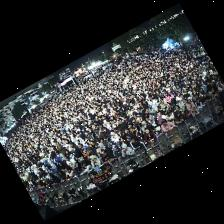person: (129, 136, 149, 157), (65, 157, 80, 174), (69, 147, 83, 163), (144, 129, 156, 146), (100, 150, 114, 164), (46, 166, 61, 179), (84, 146, 98, 159), (161, 119, 174, 132), (80, 159, 91, 174), (121, 144, 133, 157), (98, 143, 112, 154), (148, 115, 158, 130), (94, 130, 105, 143), (90, 155, 100, 168), (173, 112, 183, 125), (134, 125, 143, 139), (65, 168, 74, 182), (78, 144, 87, 158), (50, 174, 61, 185), (69, 142, 80, 153), (113, 145, 121, 160), (176, 97, 184, 112), (110, 132, 119, 145), (102, 128, 111, 141), (124, 128, 133, 141), (119, 136, 129, 147), (55, 144, 65, 155), (201, 93, 211, 104), (157, 111, 165, 124), (36, 180, 47, 189), (165, 103, 174, 114), (165, 91, 173, 103), (186, 98, 193, 111), (195, 99, 202, 112), (39, 169, 49, 178), (47, 161, 56, 171), (190, 106, 198, 117), (190, 91, 198, 102), (166, 111, 173, 123), (108, 142, 114, 156), (98, 138, 107, 147), (57, 170, 65, 180), (207, 92, 215, 102), (140, 121, 146, 133), (210, 89, 219, 97), (155, 127, 163, 136), (159, 99, 166, 109), (103, 121, 110, 130), (218, 82, 223, 94), (172, 106, 180, 113), (46, 179, 53, 186), (38, 176, 46, 182), (32, 182, 38, 190), (29, 185, 32, 192)
